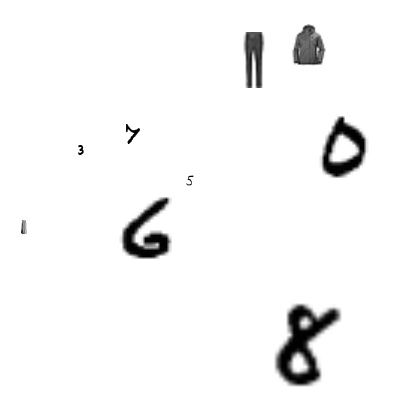0: (299, 105, 383, 189)
3: (74, 143, 88, 157)
5: (183, 173, 197, 187)
6: (102, 192, 186, 276)
7: (118, 119, 146, 147)
8: (244, 285, 356, 397)
Coat: (288, 24, 330, 66)
Dress: (17, 220, 31, 234)
Trouser: (226, 32, 282, 88)
